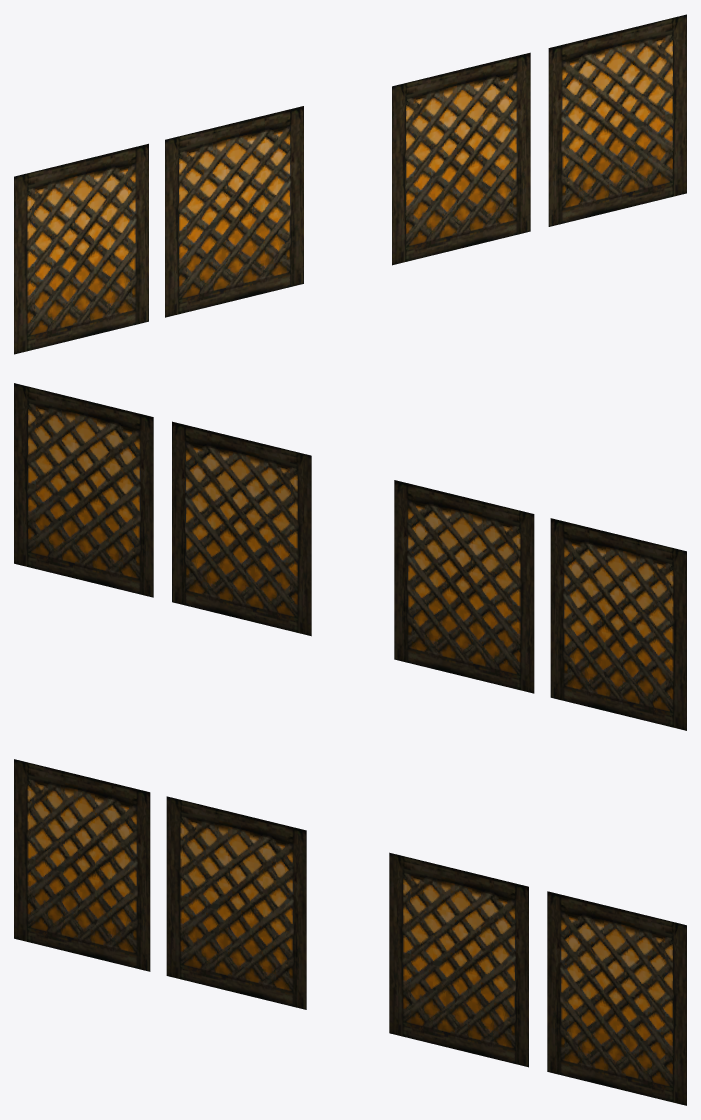
The model's file is LAKETOWN_EXTERIOR_PS_LT_ENT_WINDOWS4746.fbx.
The picture shows the model from 3 angles, top to bottom: view 1: azimuth 30°, elevation 25°; view 2: azimuth 150°, elevation 25°; view 3: azimuth 330°, elevation 25°; orthographic projection.
Parts seen in each view (by area): view 1: LAKETOWN_EXTERIOR_PS_LT_ENT_WINDOWS4746; view 2: LAKETOWN_EXTERIOR_PS_LT_ENT_WINDOWS4746; view 3: LAKETOWN_EXTERIOR_PS_LT_ENT_WINDOWS4746.
Boxes of the visible parts, left/top/right/bottom form: LAKETOWN_EXTERIOR_PS_LT_ENT_WINDOWS4746: left=14, top=14, right=686, bottom=354; LAKETOWN_EXTERIOR_PS_LT_ENT_WINDOWS4746: left=14, top=383, right=686, bottom=730; LAKETOWN_EXTERIOR_PS_LT_ENT_WINDOWS4746: left=14, top=759, right=686, bottom=1105.
Bounding box in the file's own units: 51614 × 13176 × 415.
Materials: 1 (1 with a texture image).
